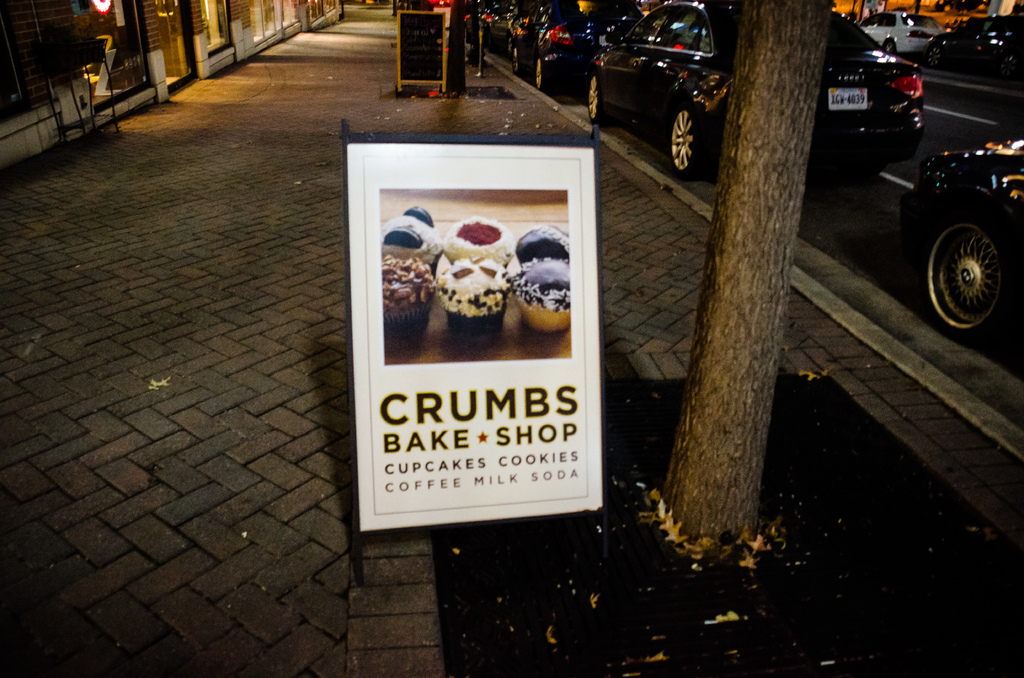cars: (584, 0, 924, 172), (906, 128, 1023, 343), (533, 0, 662, 99), (502, 1, 547, 78), (466, 1, 518, 52)
